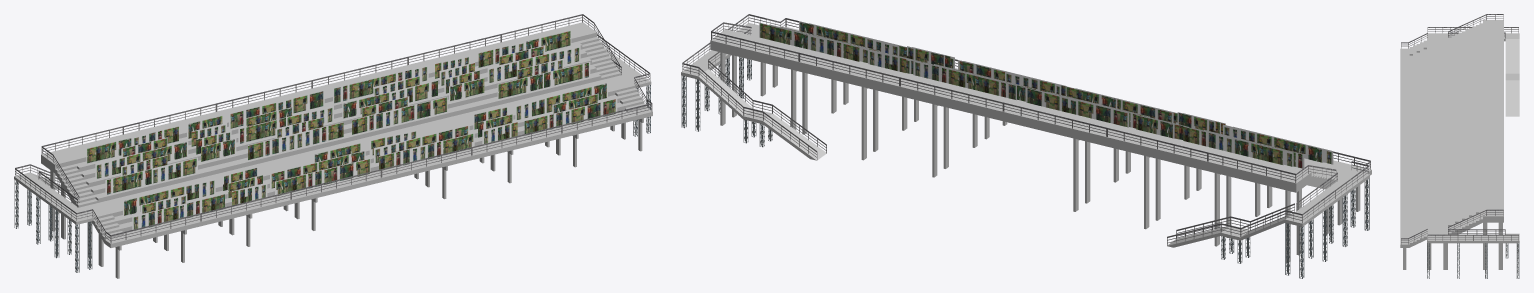
The model's file is Stand-06.fbx.
The picture shows the model from 3 angles, left to right: view 1: azimuth 30°, elevation 25°; view 2: azimuth 150°, elevation 25°; view 3: azimuth 270°, elevation 25°; orthographic projection. The views are drawn at different scales.
Visible parts, largest first — view 1: Stand-06, Audience; view 2: Stand-06, Audience; view 3: Stand-06.
Part boxes in pixels (x1,y1,x2,y2): Stand-06: (14,14,652,278); Audience: (86,30,617,231); Stand-06: (681,14,1371,278); Audience: (759,21,1333,168); Stand-06: (1400,14,1519,278).
Size of the model in its own units: 7041 by 1033 by 1706.
